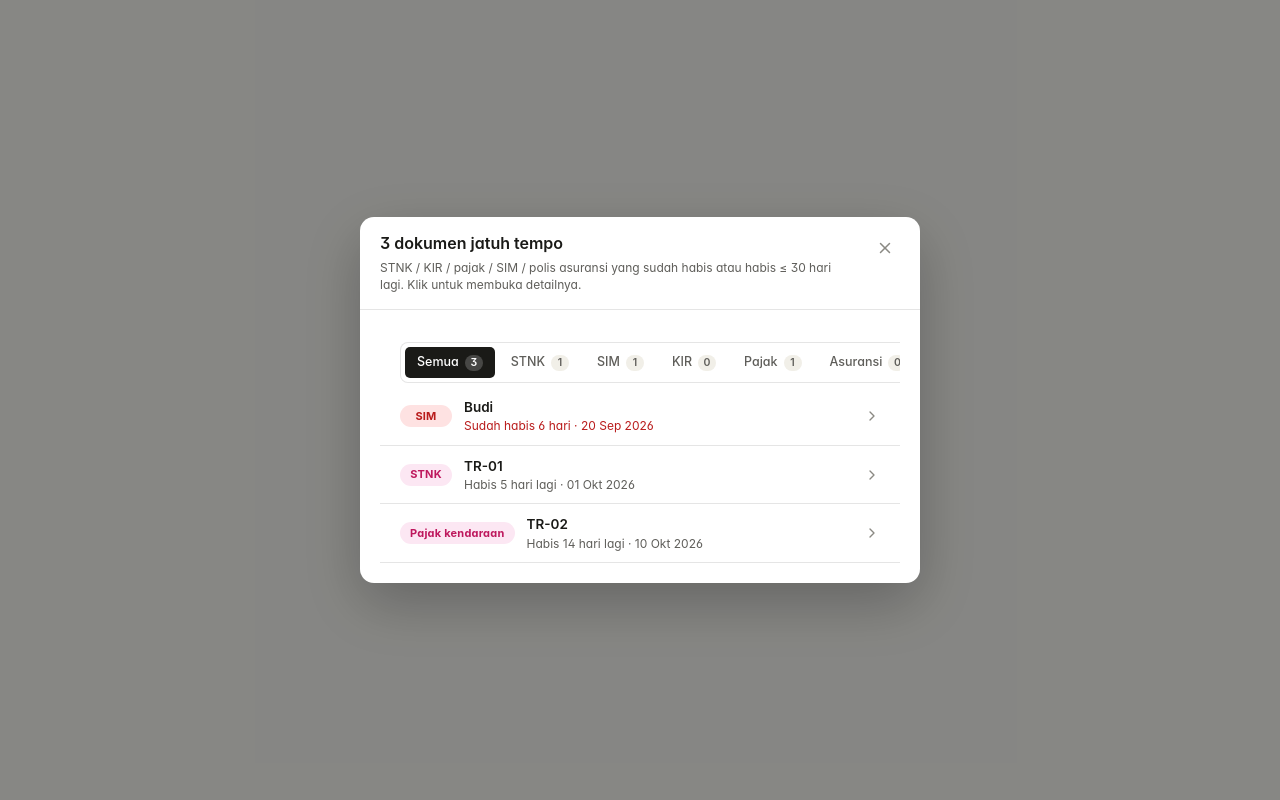
Test: kartu Perlu tindakan › modal dokumen: filter per jenis dokumen
Expected: the number of links is 3, [400, 399, 880, 433]; [400, 458, 880, 492]; [400, 516, 880, 551]
Click the button "Pajak 1" at (773, 363), box [732, 347, 814, 378]
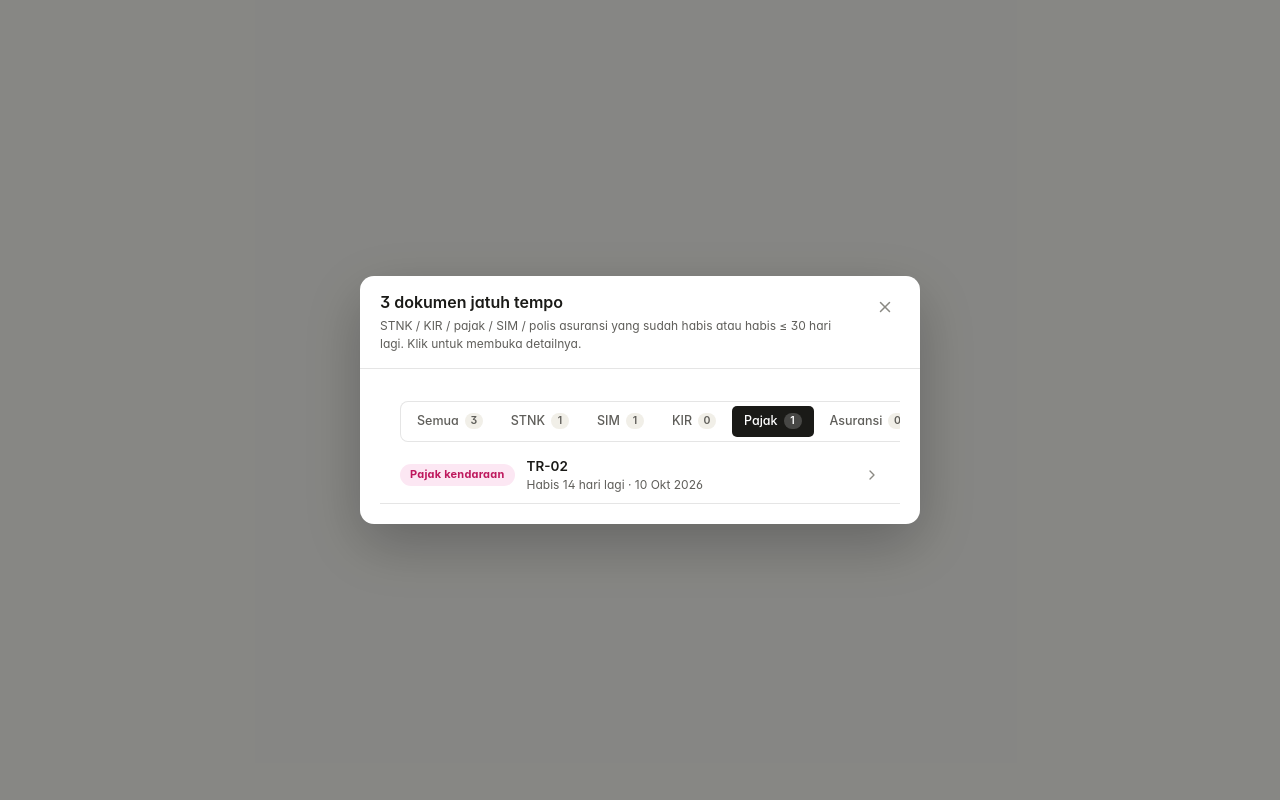
Expected: the link shows "TR-02", [400, 458, 880, 492]
Now the number of links is 1, box [400, 458, 880, 492]
Click the button "KIR 0" at (694, 421), box [660, 406, 728, 437]
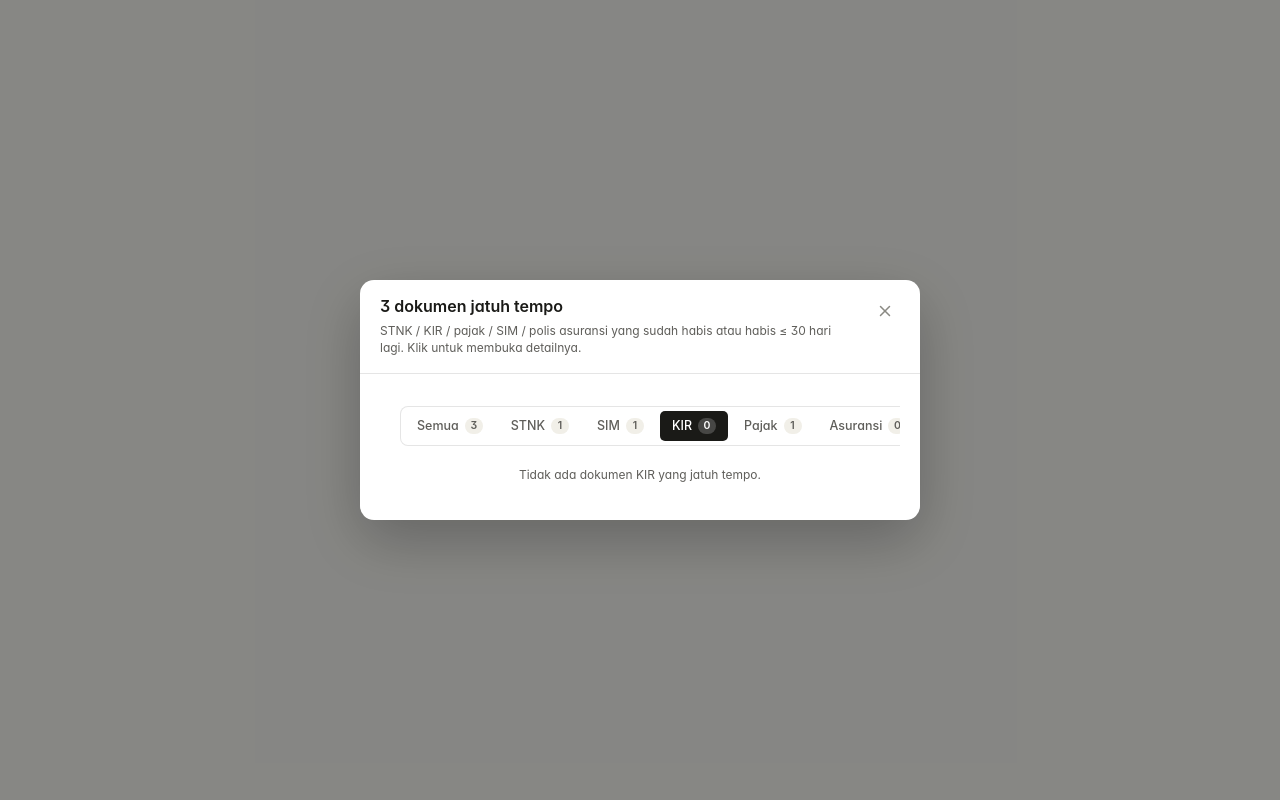
Now no links are shown
Now the text "Tidak ada dokumen KIR yang jatuh tempo." is shown, box [519, 467, 761, 482]
